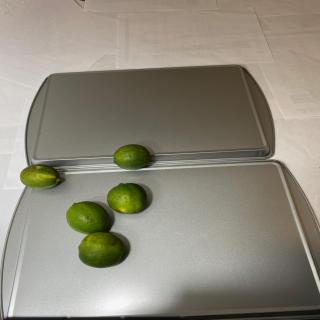Lemon: (78, 232, 125, 268), (66, 201, 110, 234), (107, 183, 147, 214), (20, 164, 60, 190), (113, 144, 151, 170)
